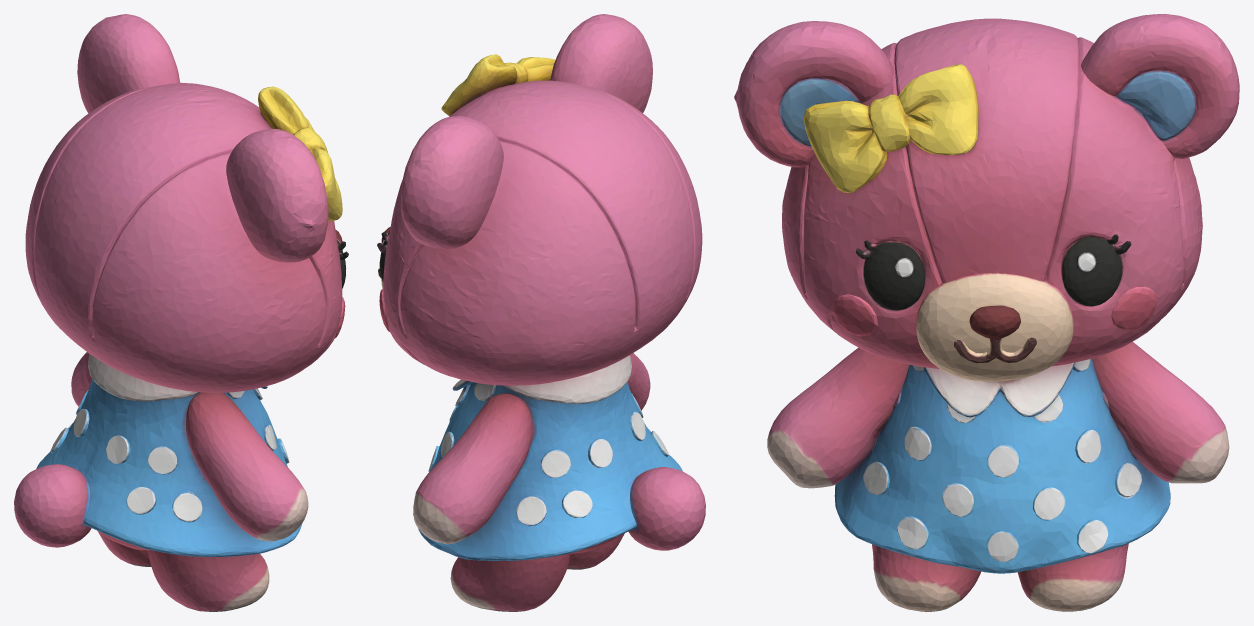
Rendered from toy_18.glb.
3 views of the same model, side by side, from view 1: azimuth 30°, elevation 25°; view 2: azimuth 150°, elevation 25°; view 3: azimuth 270°, elevation 25° (orthographic). The views are drawn at different scales.
Visible parts, largest first — view 1: tripo_node_3e7f1d8d-2ce2-4de5-ad26-a9e0b417103a; view 2: tripo_node_3e7f1d8d-2ce2-4de5-ad26-a9e0b417103a; view 3: tripo_node_3e7f1d8d-2ce2-4de5-ad26-a9e0b417103a.
Part boxes in pixels (left/top/right/bottom): tripo_node_3e7f1d8d-2ce2-4de5-ad26-a9e0b417103a: left=14, top=14, right=348, bottom=611; tripo_node_3e7f1d8d-2ce2-4de5-ad26-a9e0b417103a: left=377, top=14, right=705, bottom=611; tripo_node_3e7f1d8d-2ce2-4de5-ad26-a9e0b417103a: left=734, top=14, right=1239, bottom=611.
Bounding box in the file's own units: 0.6628 × 1 × 0.787.
1 material, 1 textured.
